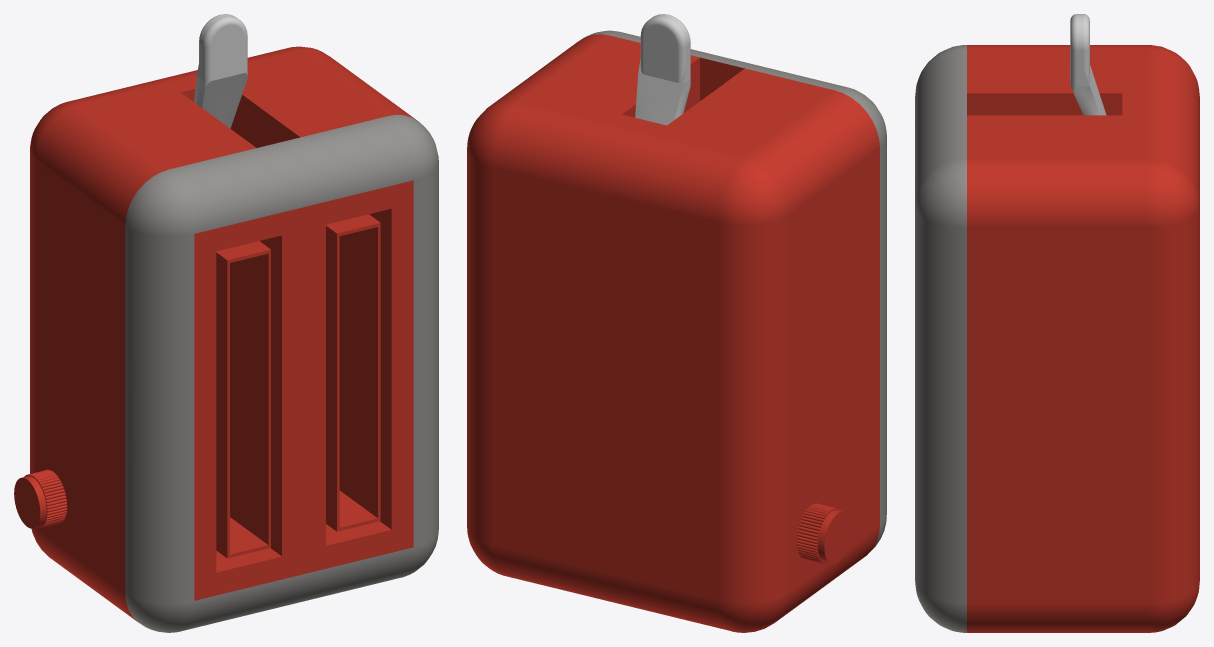
The model's file is Coloured toaster.fbx.
3 views of the same model, side by side, from view 1: azimuth 30°, elevation 25°; view 2: azimuth 150°, elevation 25°; view 3: azimuth 270°, elevation 25° (orthographic). The views are drawn at different scales.
Parts seen in each view (by area): view 1: Body1, Body3; view 2: Body1, Body3; view 3: Body1, Body3.
Part boxes in pixels (x1,y1,x2,y2): Body1: (14, 46, 438, 632); Body3: (194, 14, 247, 128); Body1: (467, 30, 886, 632); Body3: (635, 14, 690, 125); Body1: (915, 45, 1199, 632); Body3: (1070, 14, 1106, 115).
Size of the model in its own units: 153 by 238 by 110.
